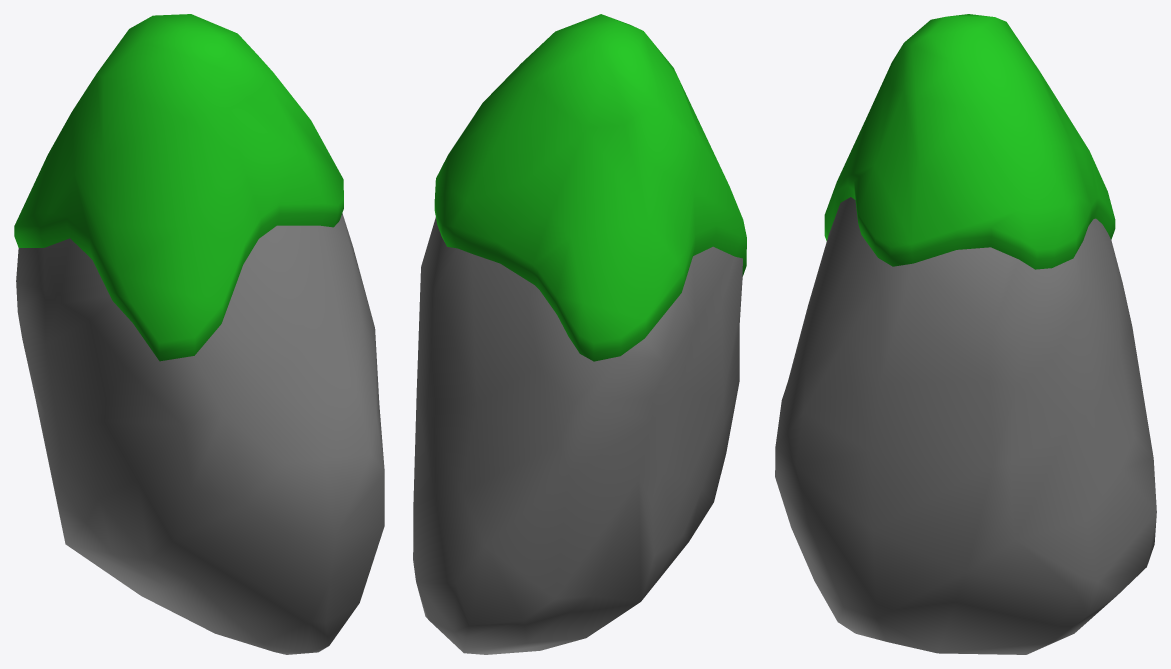
The model's file is stone7.fbx.
3 renders of one model, left to right at view 1: azimuth 30°, elevation 25°; view 2: azimuth 150°, elevation 25°; view 3: azimuth 270°, elevation 25°, orthographic. The views are drawn at different scales.
Visible parts, largest first — view 1: 7stone, 7moss; view 2: 7stone, 7moss; view 3: 7stone, 7moss.
Boxes of the visible parts, box(x1,y1,x2,y2) form: 7stone: box(16, 213, 384, 654); 7moss: box(14, 14, 343, 361); 7stone: box(413, 217, 742, 654); 7moss: box(434, 14, 746, 361); 7stone: box(775, 197, 1156, 654); 7moss: box(824, 14, 1115, 269).
Size of the model in its own units: 587 by 1276 by 734.
